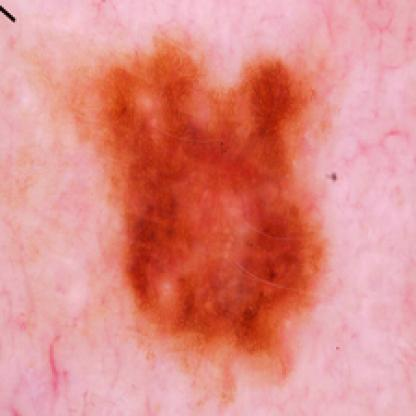Skin_Cancer-Malignant: (87, 31, 324, 406)
